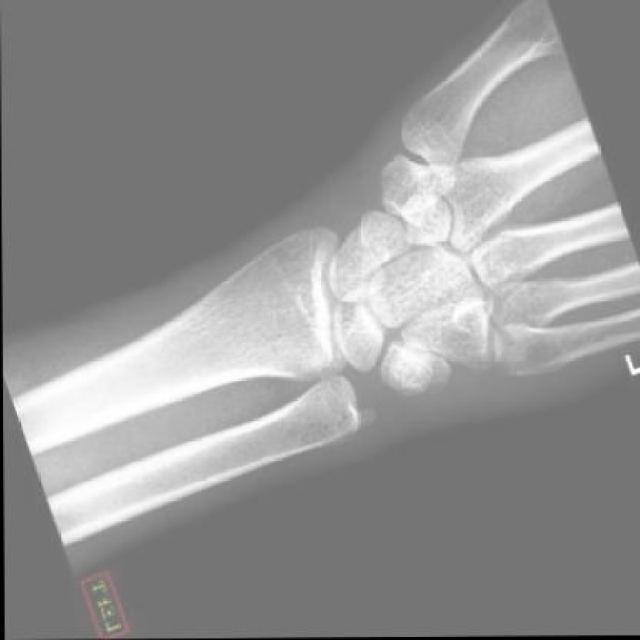Fracture: (348, 220, 399, 279)
